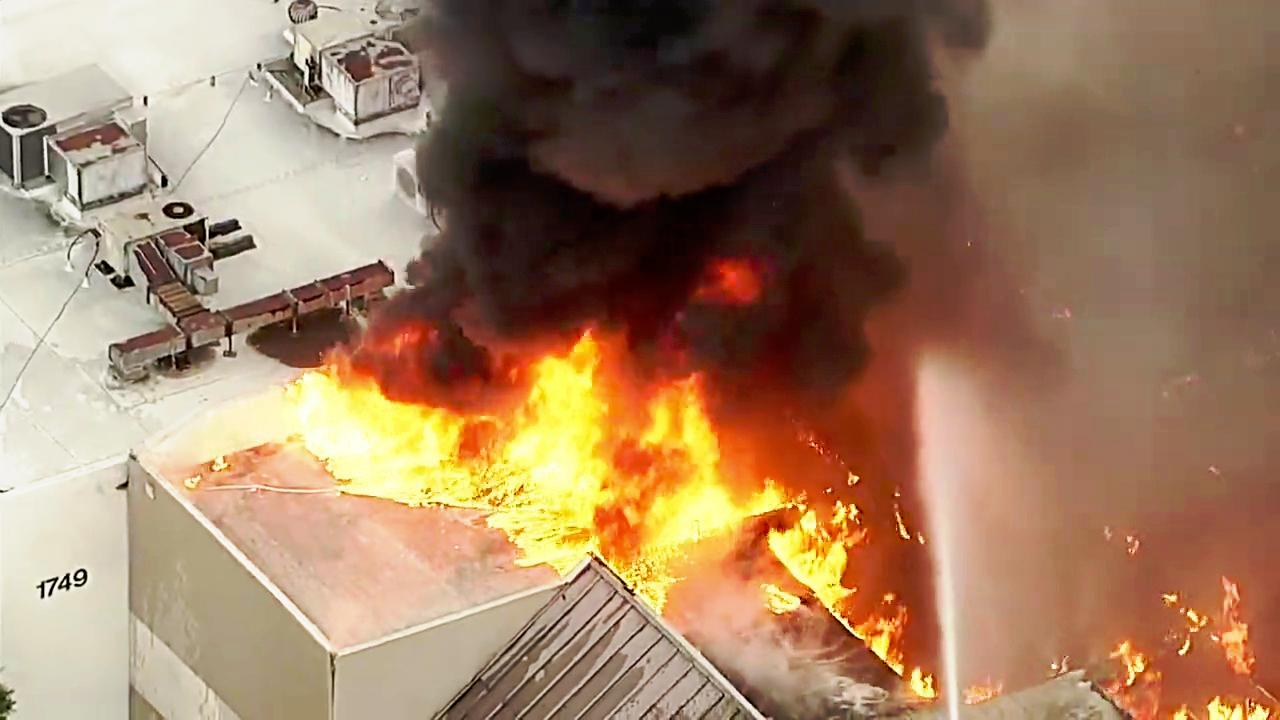fire: (463, 330, 630, 544), (290, 337, 458, 496), (642, 340, 764, 555), (1139, 579, 1280, 709), (767, 495, 869, 594)
smoke: (459, 0, 870, 372)
